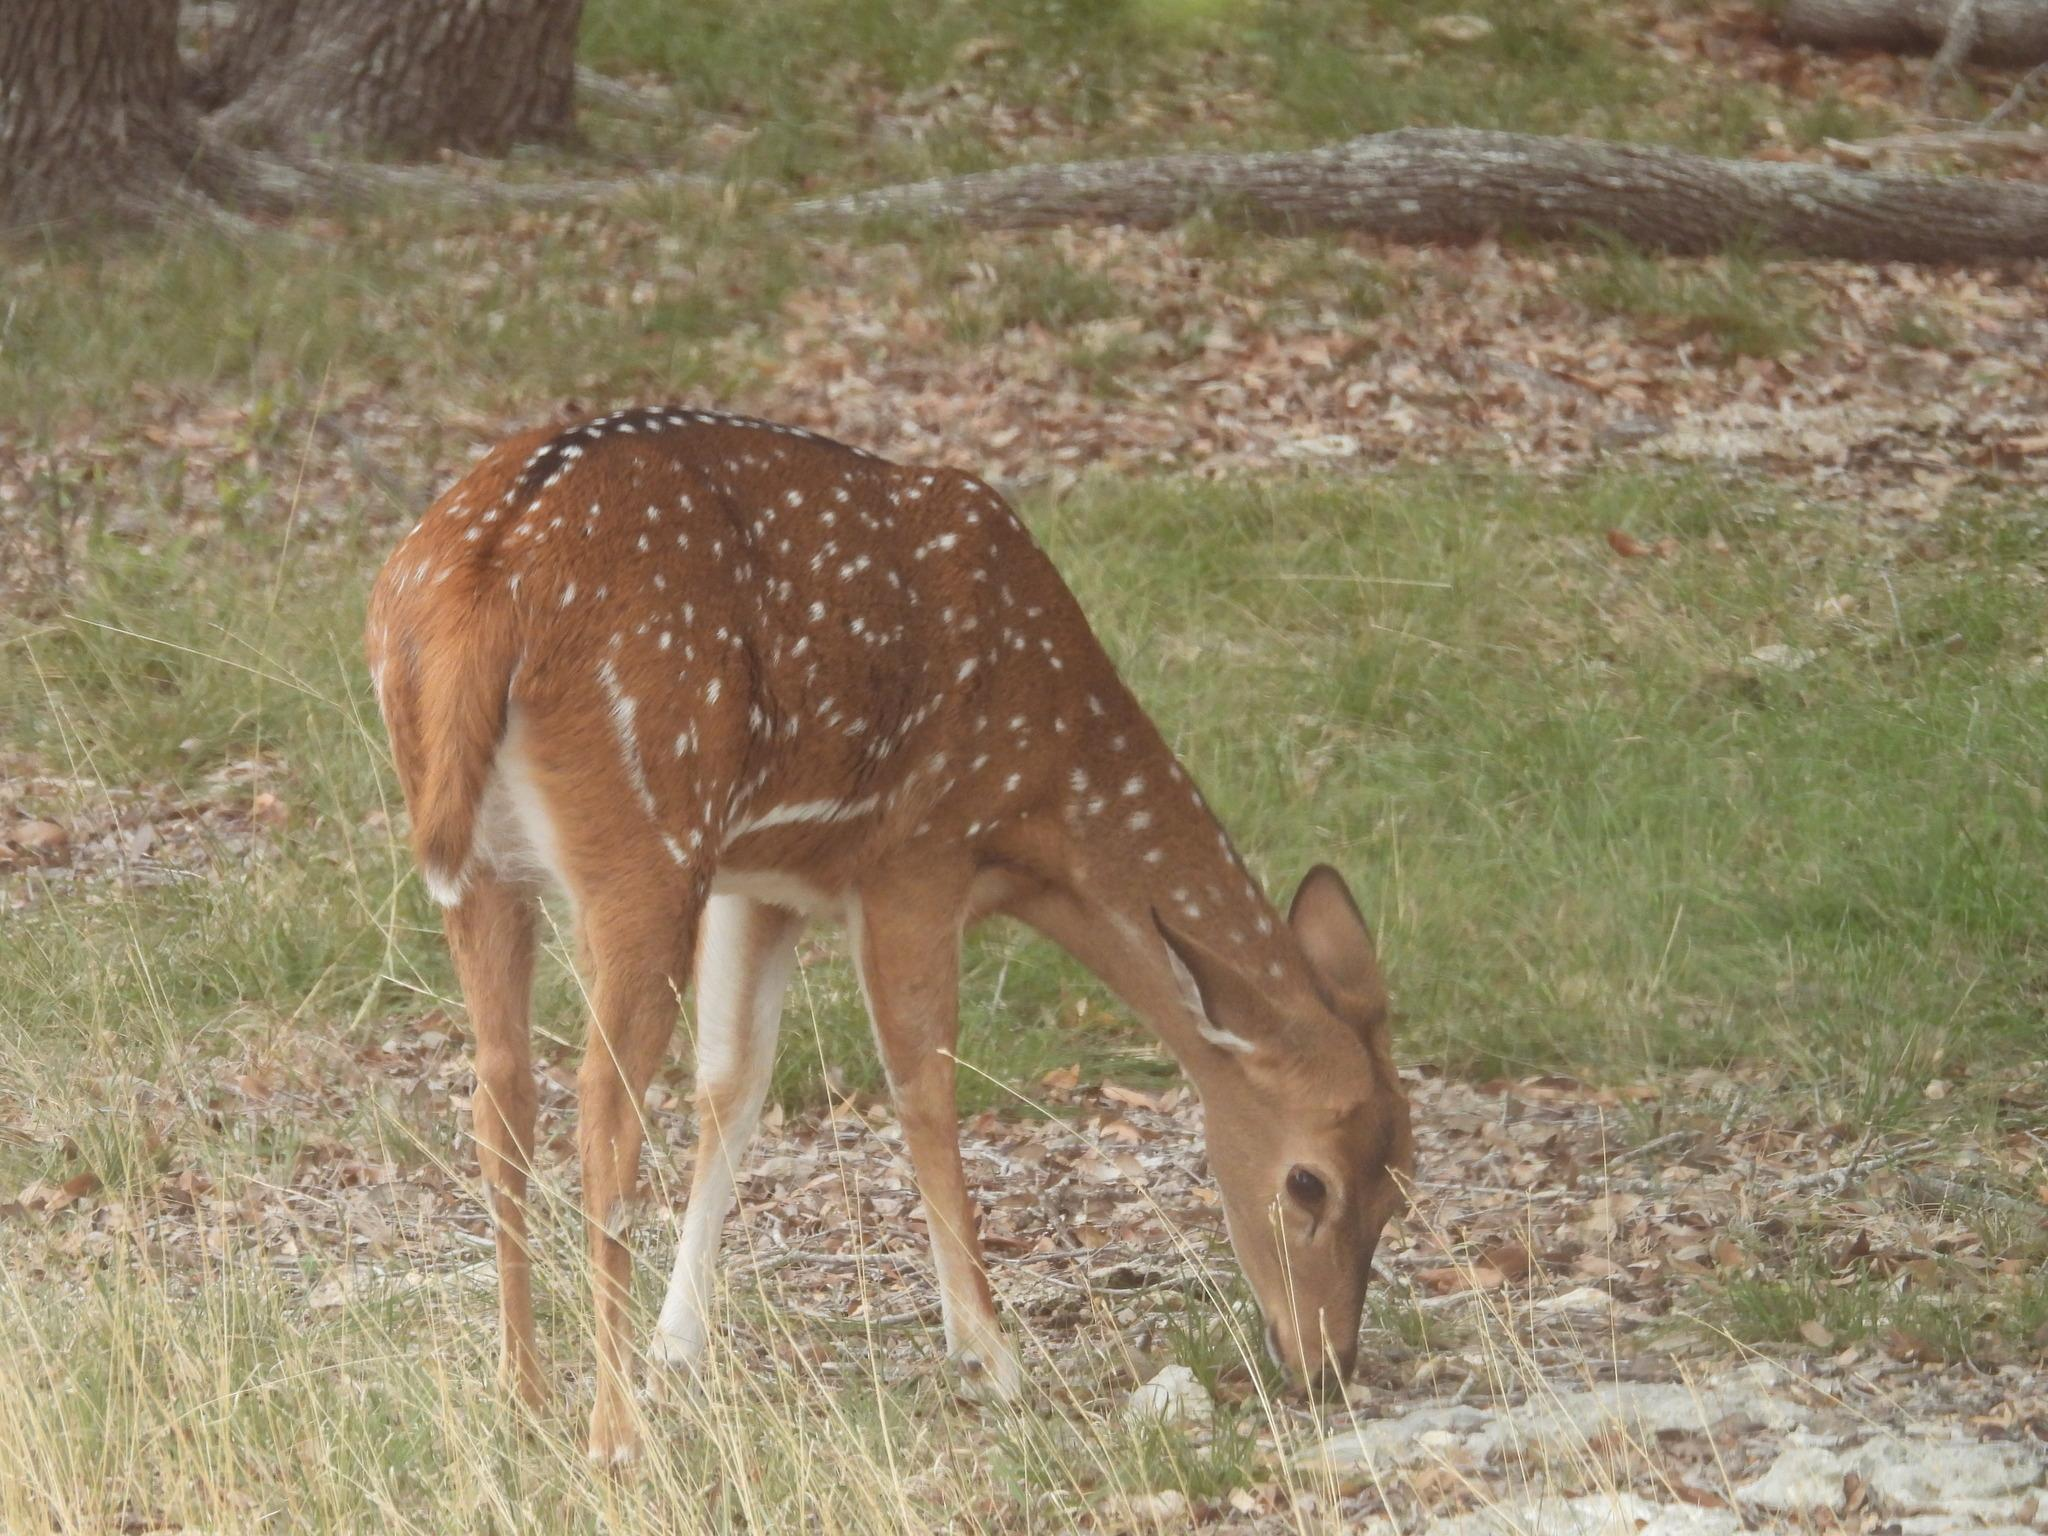Deer: (368, 408, 1414, 1457)
